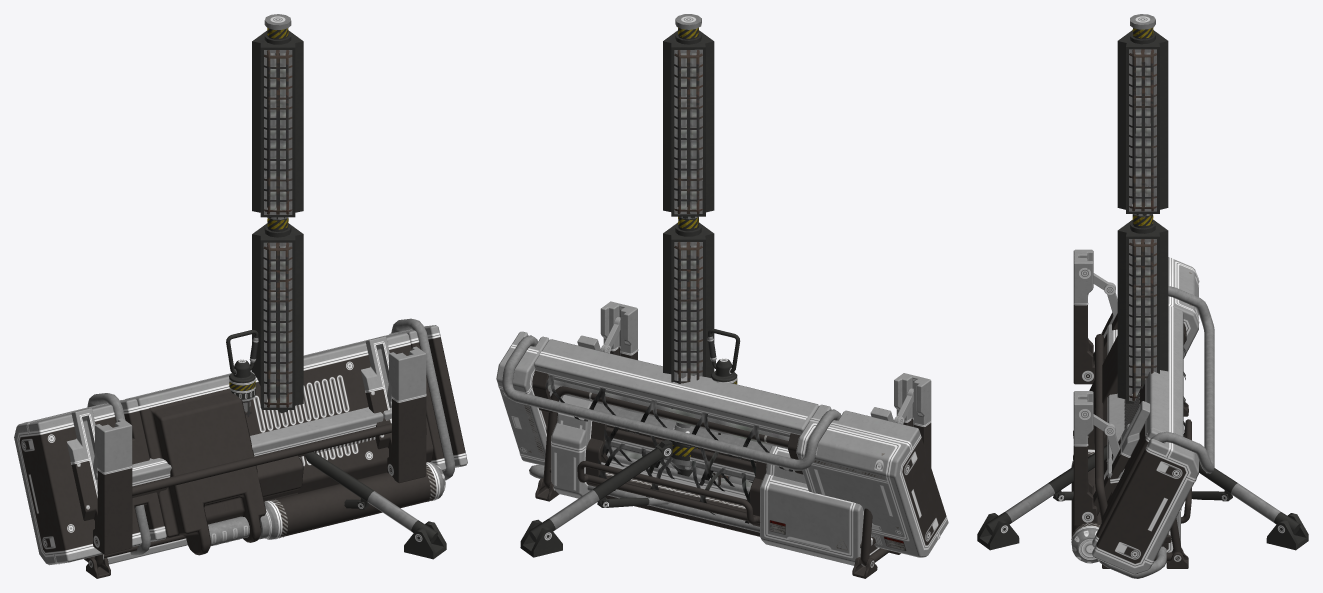
The model's file is luft.glb.
3 views of the same model, side by side, from view 1: azimuth 30°, elevation 25°; view 2: azimuth 150°, elevation 25°; view 3: azimuth 270°, elevation 25° (orthographic).
Parts seen in each view (by area): view 1: prop_luft_heater_large_1_b, prop_luft_heater_freestanding_1_a, prop_luft_heater_large_1_d, prop_luft_heater_freestanding_1_b, prop_luft_heater_hanging_1_a, prop_luft_heater_large_1_c; view 2: prop_luft_heater_large_1_b, prop_luft_heater_freestanding_1_a, prop_luft_heater_large_1_c, prop_luft_heater_large_1_d, prop_luft_heater_freestanding_1_b, prop_luft_heater_hanging_1_a; view 3: prop_luft_heater_large_1_b, prop_luft_heater_freestanding_1_a, prop_luft_heater_freestanding_1_b, prop_luft_heater_large_1_d.
Boxes of the visible parts, x1,y1,x2,y2 form: prop_luft_heater_large_1_b: (14,318,467,565); prop_luft_heater_freestanding_1_a: (252,14,446,559); prop_luft_heater_large_1_d: (84,407,426,578); prop_luft_heater_freestanding_1_b: (252,217,445,559); prop_luft_heater_hanging_1_a: (226,329,258,417); prop_luft_heater_large_1_c: (107,492,297,564); prop_luft_heater_large_1_b: (496,301,948,557); prop_luft_heater_freestanding_1_a: (520,14,714,557); prop_luft_heater_large_1_c: (551,422,879,566); prop_luft_heater_large_1_d: (535,386,900,578); prop_luft_heater_freestanding_1_b: (520,216,752,557); prop_luft_heater_hanging_1_a: (707,329,740,486); prop_luft_heater_large_1_b: (1071,249,1214,578); prop_luft_heater_freestanding_1_a: (977,14,1308,549); prop_luft_heater_freestanding_1_b: (977,214,1308,550); prop_luft_heater_large_1_d: (1094,324,1191,568).
Size of the model in its own units: 1.38 by 1.63 by 1.
Materials: 22 (21 with a texture image).
